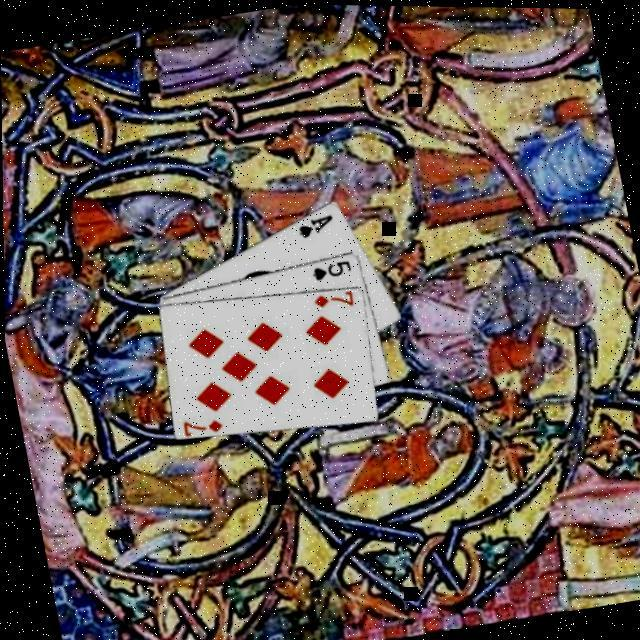5S: (308, 254, 354, 282)
7D: (178, 410, 226, 438), (309, 284, 356, 312)
AS: (293, 207, 338, 239)
